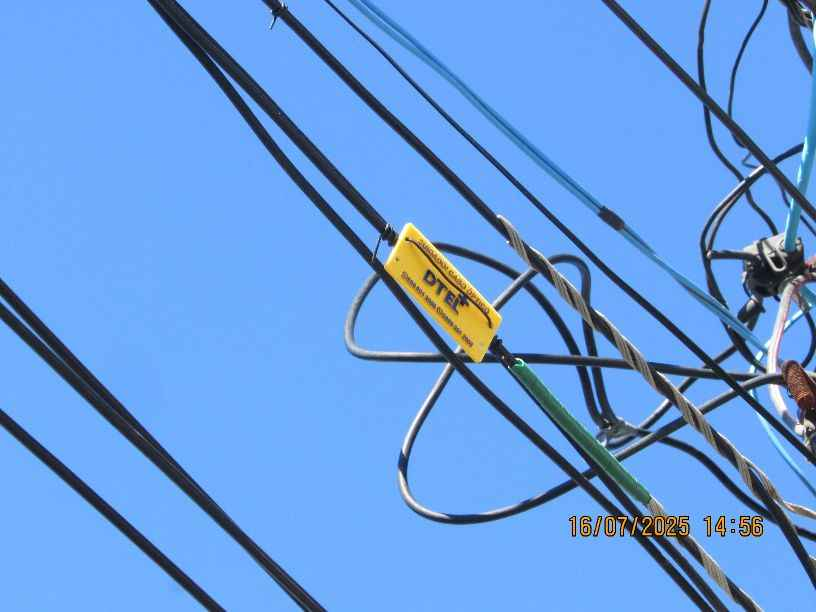fibra_optica: (244, 102, 610, 469)
